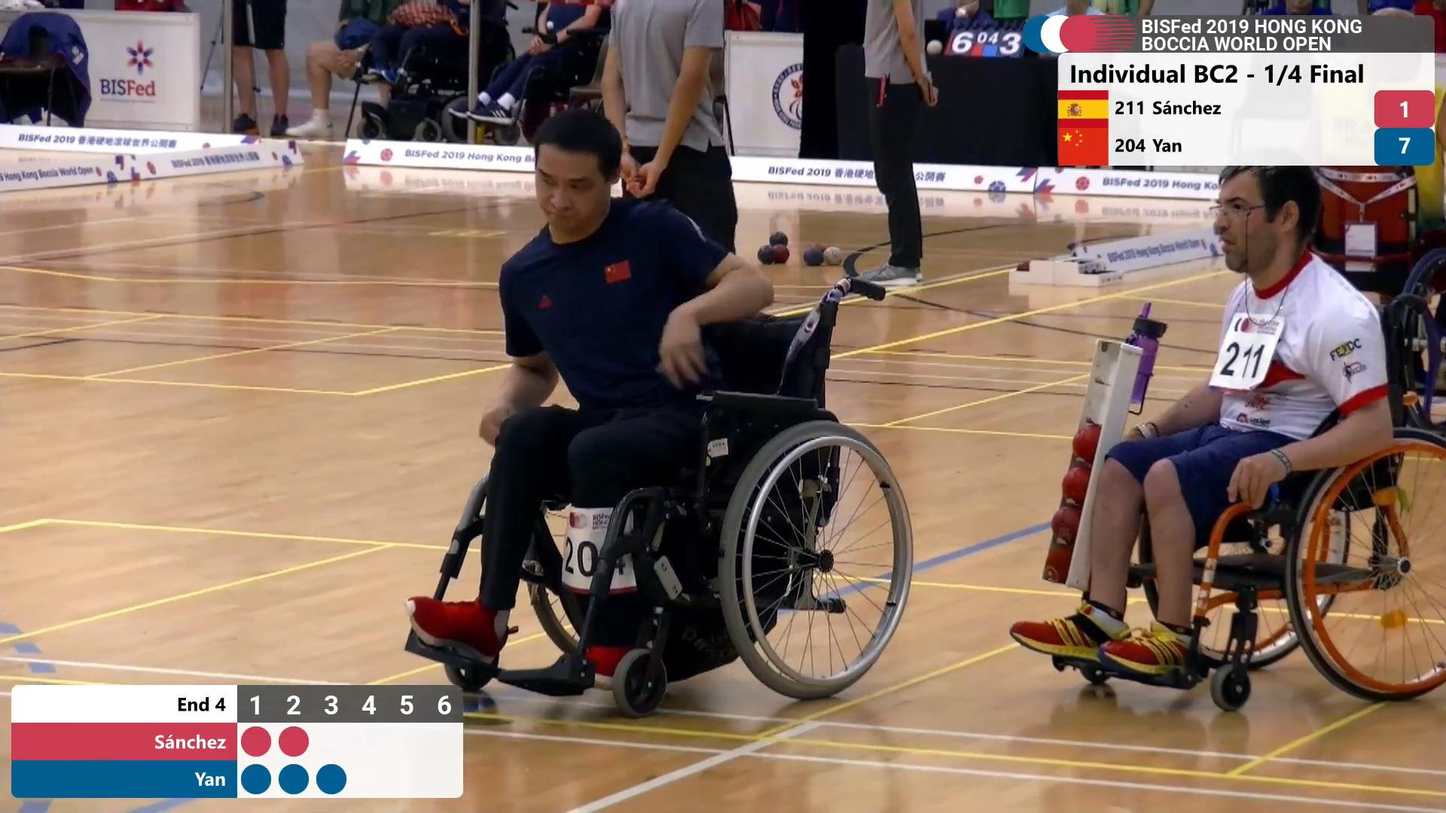blue_ball: (756, 245, 777, 267), (803, 246, 823, 268), (768, 231, 789, 249)
red_ball: (770, 243, 791, 265)
white_ball: (822, 245, 844, 267)
